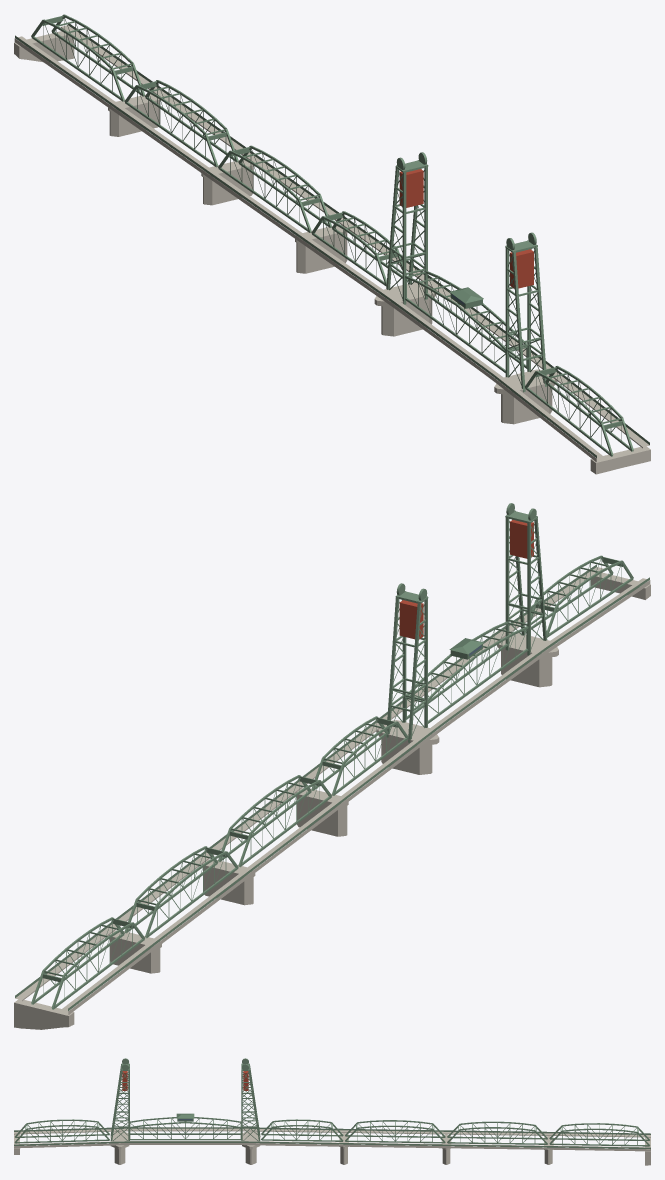
The model's file is pdx-hawthorne-bridge.glb.
3 views of the same model, one above another, from view 1: azimuth 30°, elevation 25°; view 2: azimuth 150°, elevation 25°; view 3: azimuth 270°, elevation 25° (orthographic). The views are drawn at different scales.
Parts seen in each view (by area): view 1: Hawthorne Bridge; view 2: Hawthorne Bridge; view 3: Hawthorne Bridge.
Boxes of the visible parts, x1,y1,x2,y2 form: Hawthorne Bridge: [14, 14, 650, 474]; Hawthorne Bridge: [14, 503, 650, 1029]; Hawthorne Bridge: [14, 1058, 650, 1165].
Size of the model in its own units: 26.2 by 71.3 by 425.
